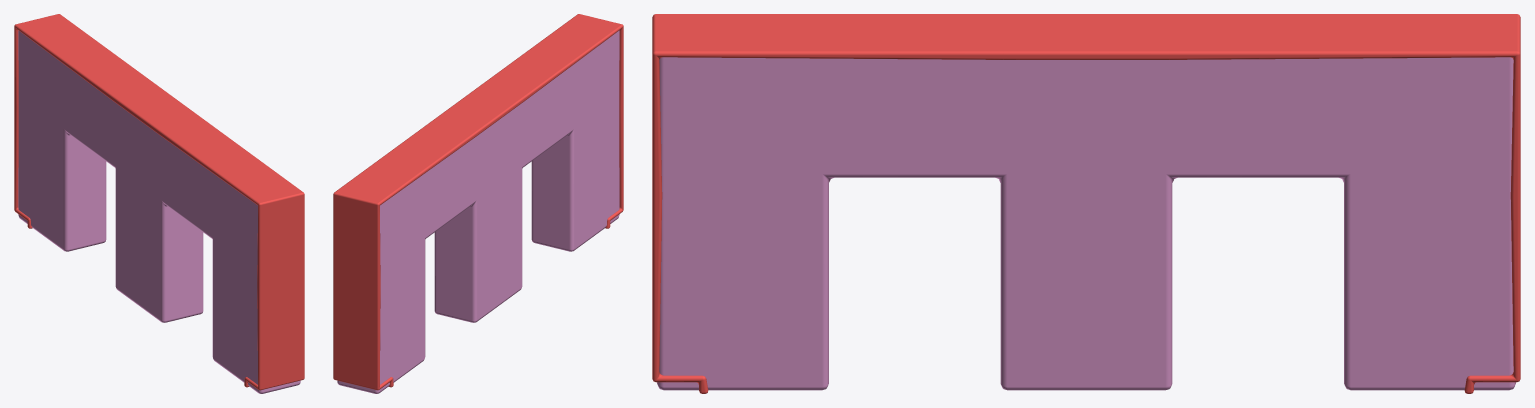
Rendered from wall2.fbx.
3 renders of one model, left to right at view 1: azimuth 30°, elevation 25°; view 2: azimuth 150°, elevation 25°; view 3: azimuth 270°, elevation 25°, orthographic. The views are drawn at different scales.
Parts seen in each view (by area): view 1: wallInside.001, wallOutside.001; view 2: wallInside.001, wallOutside.001; view 3: wallInside.001, wallOutside.001.
Part boxes in pixels (x1,y1,x2,y2): wallInside.001: (18,30,300,393); wallOutside.001: (14,14,304,390); wallInside.001: (337,30,619,393); wallOutside.001: (333,14,623,390); wallInside.001: (657,57,1515,390); wallOutside.001: (652,14,1520,393).
Size of the model in its own units: 218 by 878 by 2014.
